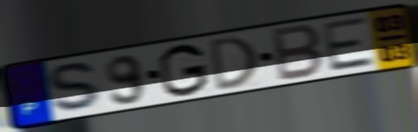9: (104, 53, 147, 106)
B: (271, 22, 326, 84)
D: (207, 34, 259, 94)
E: (319, 15, 378, 74)
G: (157, 42, 211, 100)
S: (45, 61, 107, 115)
